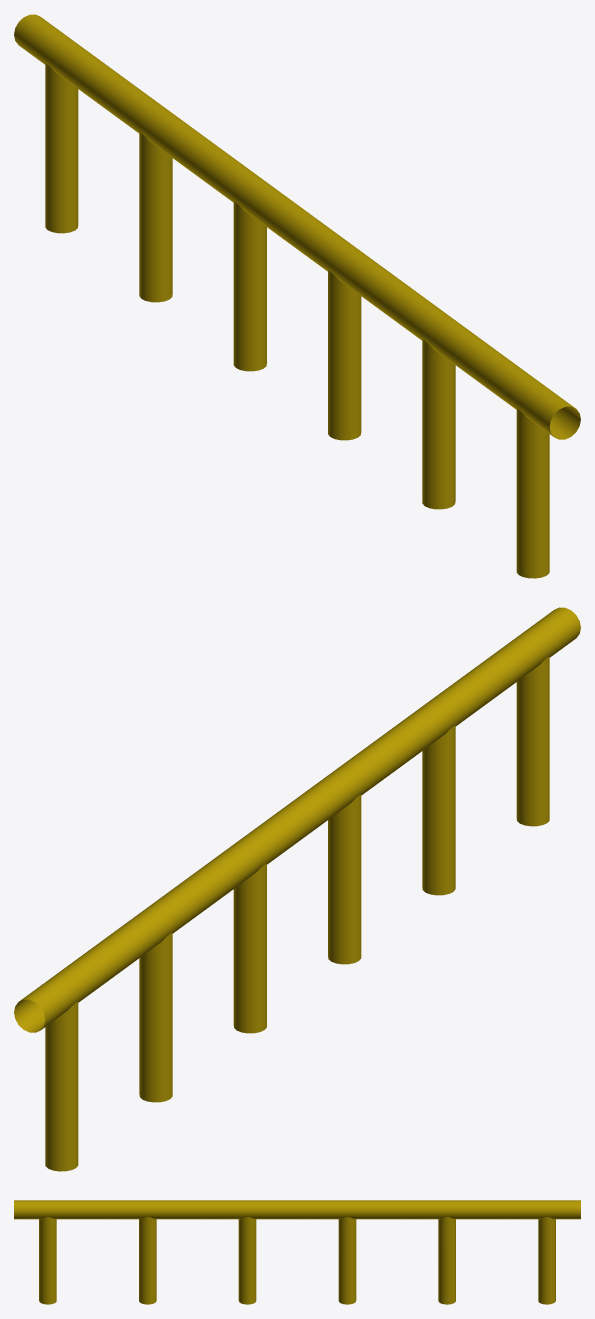
File: Rail.glb
3 views of the same model, one above another, from view 1: azimuth 30°, elevation 25°; view 2: azimuth 150°, elevation 25°; view 3: azimuth 270°, elevation 25° (orthographic). The views are drawn at different scales.
Visible parts, largest first — view 1: Rail.001; view 2: Rail.001; view 3: Rail.001.
Part boxes in pixels (x1=…): Rail.001: x1=14, y1=14, x2=580, y2=578; Rail.001: x1=14, y1=607, x2=580, y2=1171; Rail.001: x1=14, y1=1200, x2=580, y2=1304.
Size of the model in its own units: 0.0656 by 0.3767 by 1.94.
